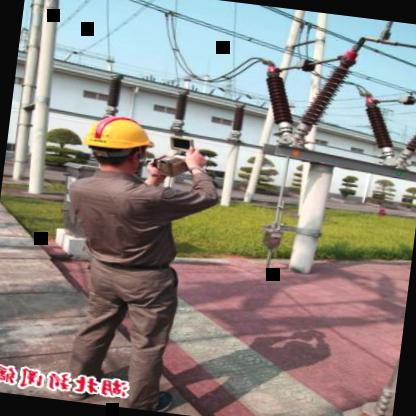helmet: (74, 106, 162, 179)
